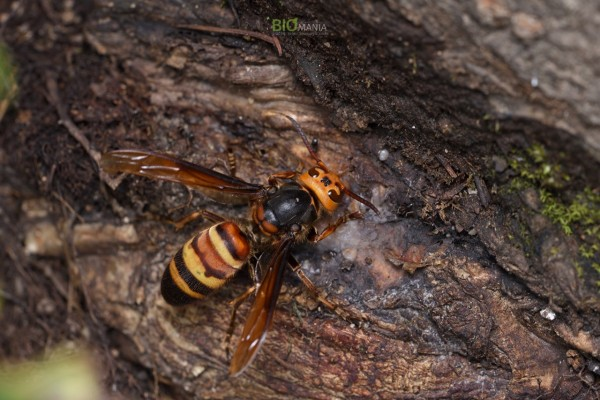asian_giant_hornet: (159, 152, 355, 311)
